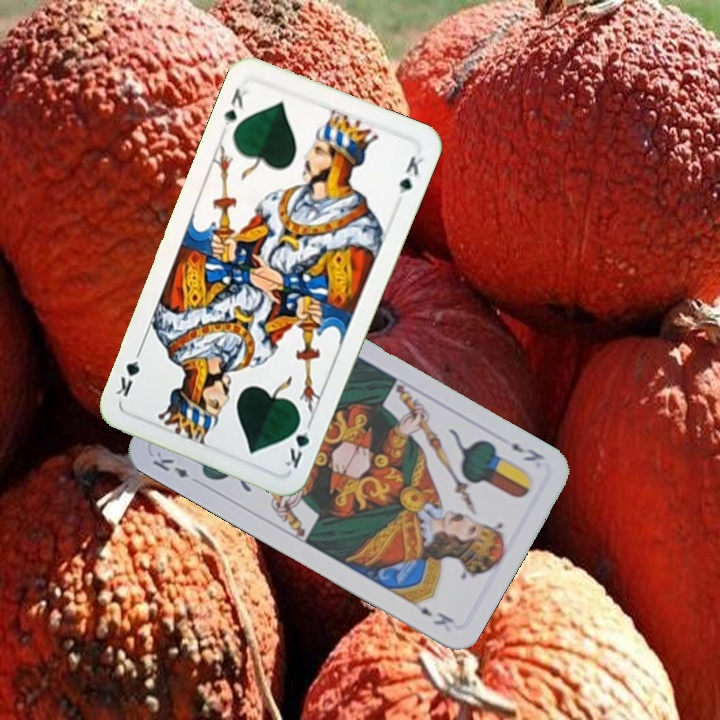EK: (148, 447, 192, 481), (507, 438, 547, 464)
GK: (280, 414, 315, 472), (220, 84, 250, 129)
